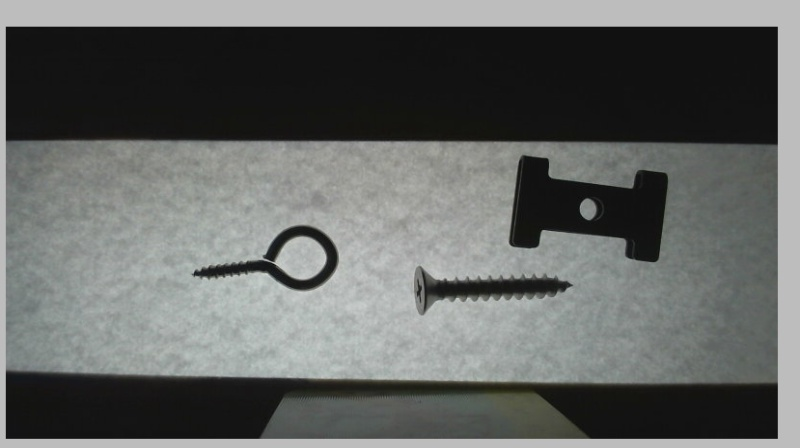O001: (189, 222, 343, 292)
O002: (503, 153, 672, 265)
S001: (412, 263, 575, 319)
